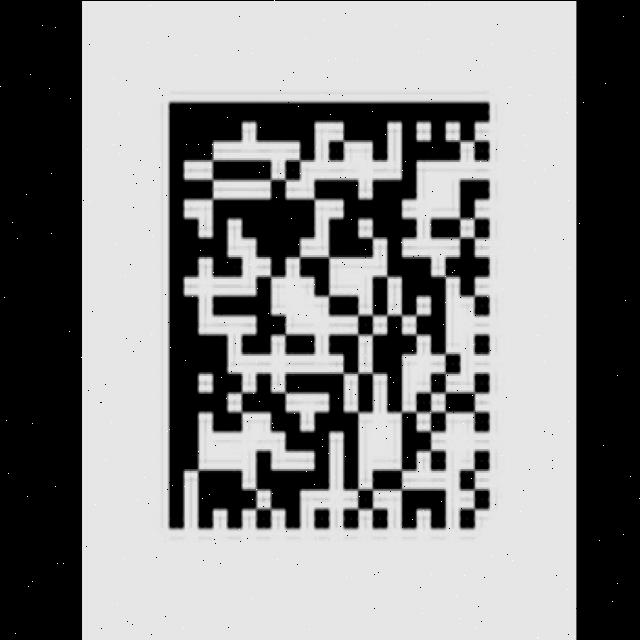datamatrix: (158, 84, 500, 543)
